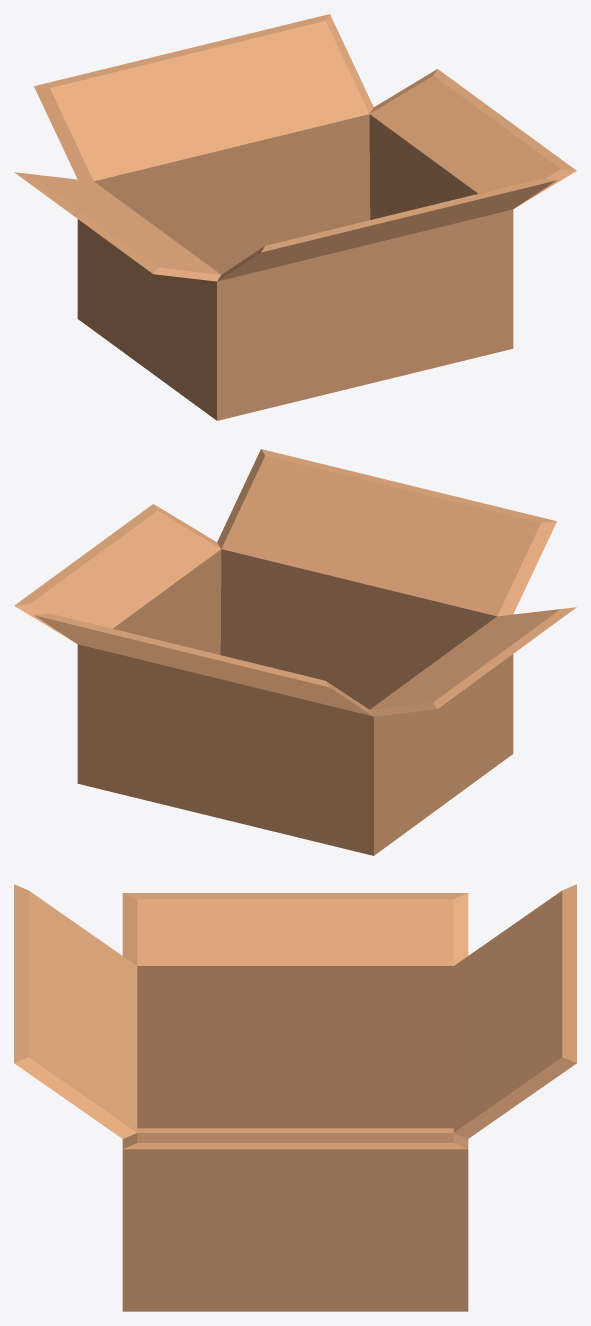
File: Box_TFSGJ_Spring2025.fbx
3 renders of one model, top to bottom at view 1: azimuth 30°, elevation 25°; view 2: azimuth 150°, elevation 25°; view 3: azimuth 270°, elevation 25°, orthographic. The views are drawn at different scales.
Parts seen in each view (by area): view 1: box; view 2: box; view 3: box.
Part boxes in pixels (x1,y1,x2,y2): box: (14,14,576,420); box: (14,449,576,855); box: (14,884,576,1311).
Size of the model in its own units: 56.81 by 25.7 by 52.77.
